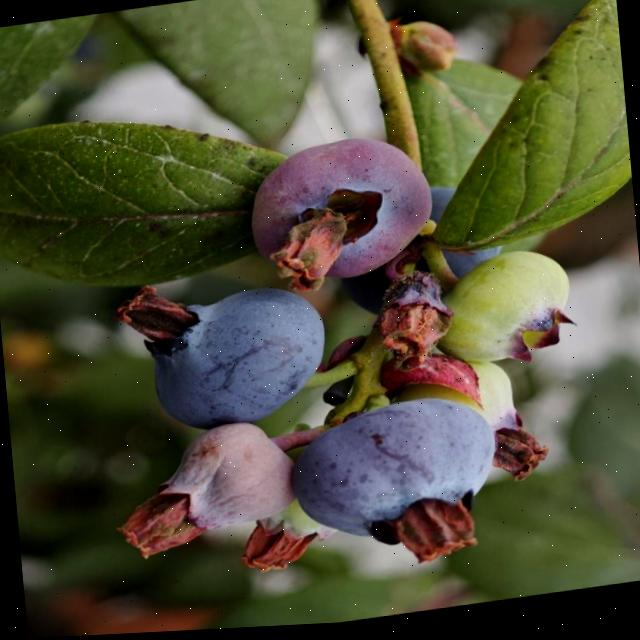RipeBlueBerry: (280, 390, 504, 562), (141, 277, 336, 439)
Semi-RipeBlueBerry: (240, 131, 440, 297), (149, 418, 298, 544)
UnripeBlueBerry: (434, 246, 581, 379)
